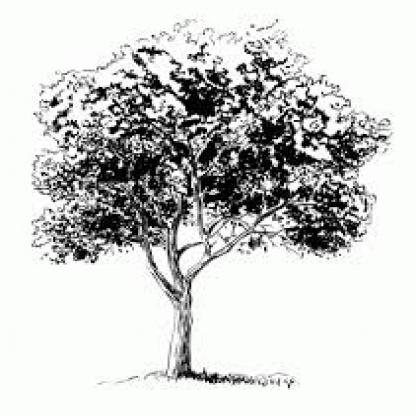crown_dizzy: (30, 18, 392, 264)
root_none: (96, 360, 297, 408)
trunk_bark: (166, 307, 194, 368)
